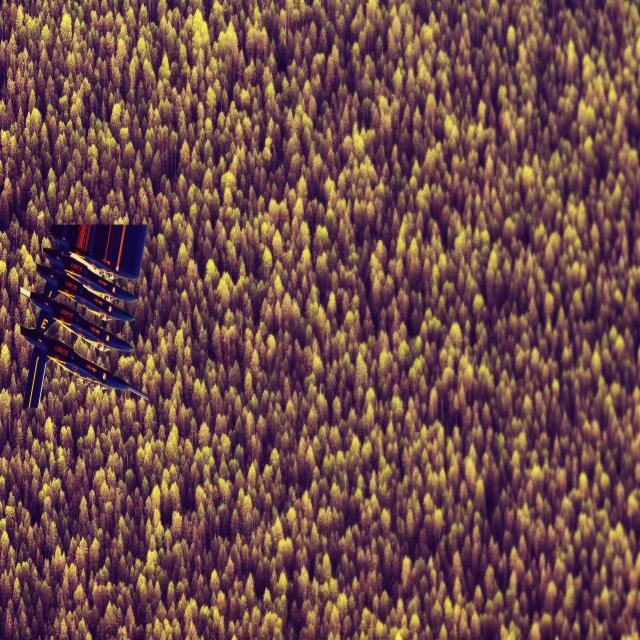airplane: (25, 226, 146, 404)
